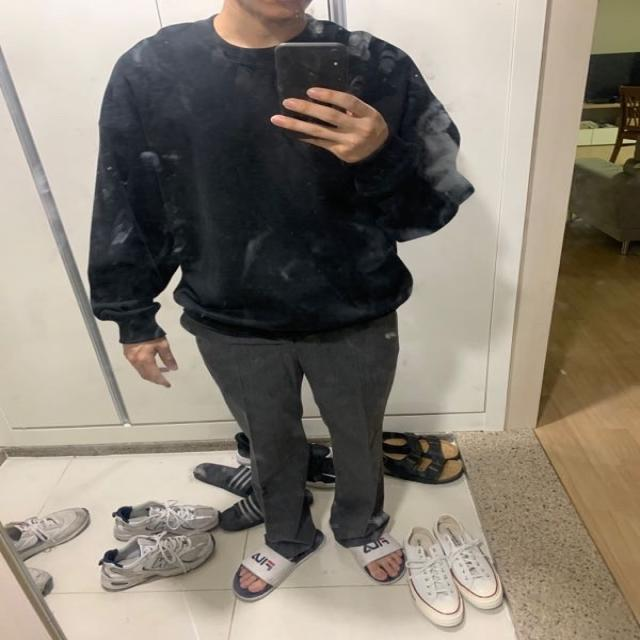mtm: (95, 6, 480, 340)
slacks: (196, 314, 399, 561)
